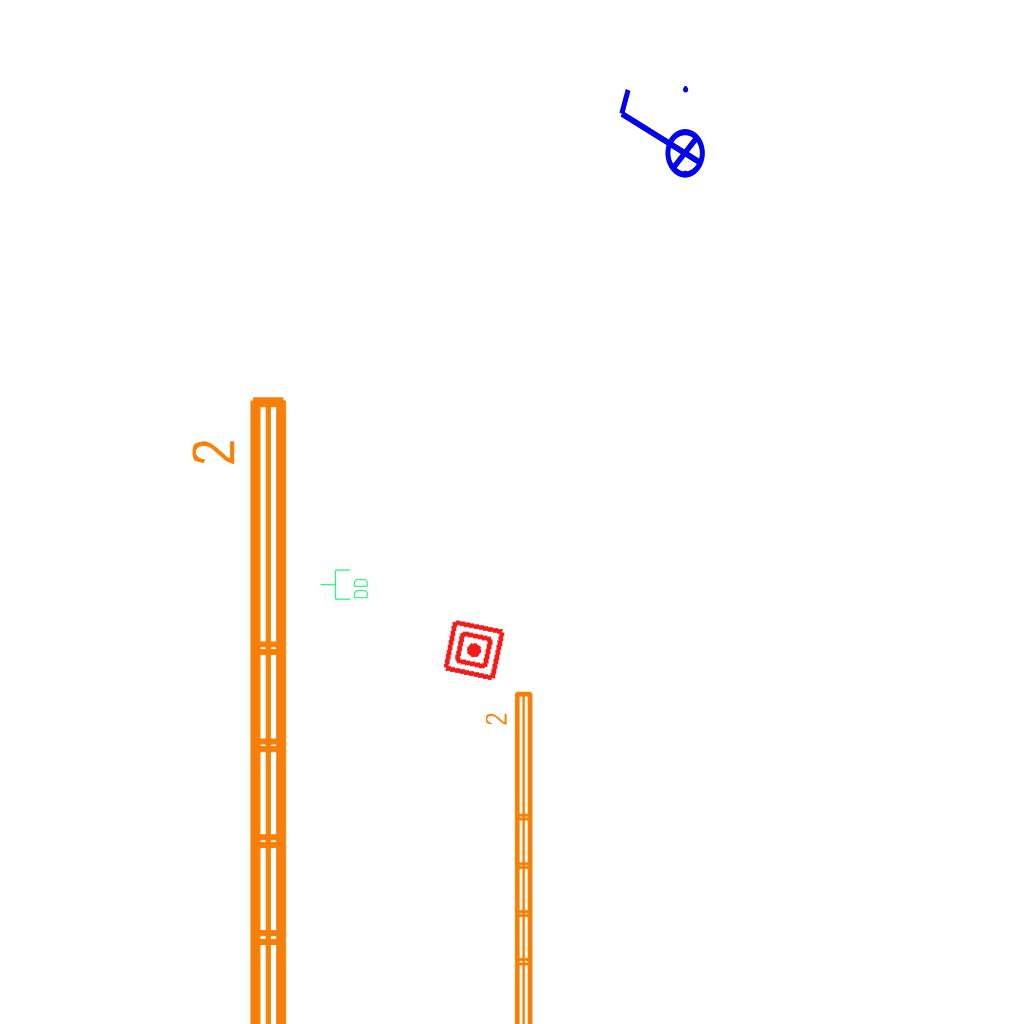Ambulanz_Pendelleuchte_LED: (187, 388, 299, 1024), (483, 687, 539, 1024)
Ausschalter_beleuchtet: (611, 80, 707, 192)
Datenanschluss_zweifach: (319, 568, 370, 602)
NAM-Nichtautomatischer_Melder: (440, 616, 508, 684)
